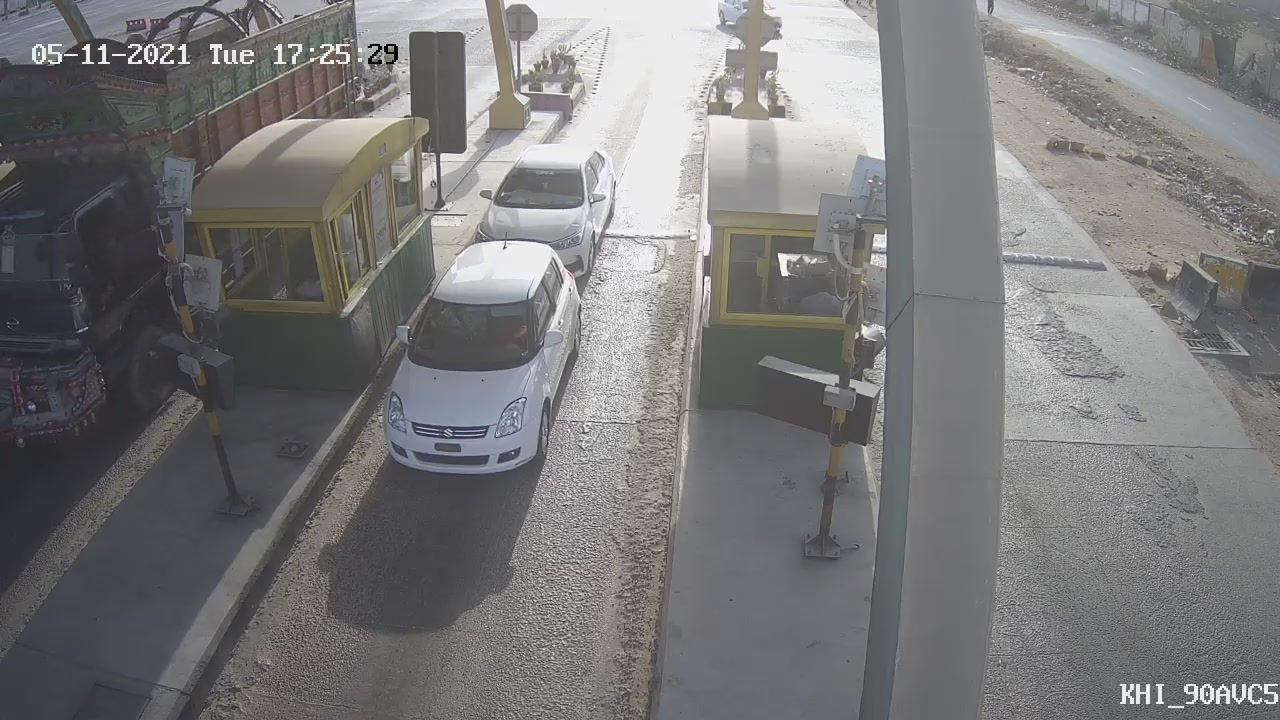F1: (347, 221, 598, 499), (460, 130, 640, 312)
